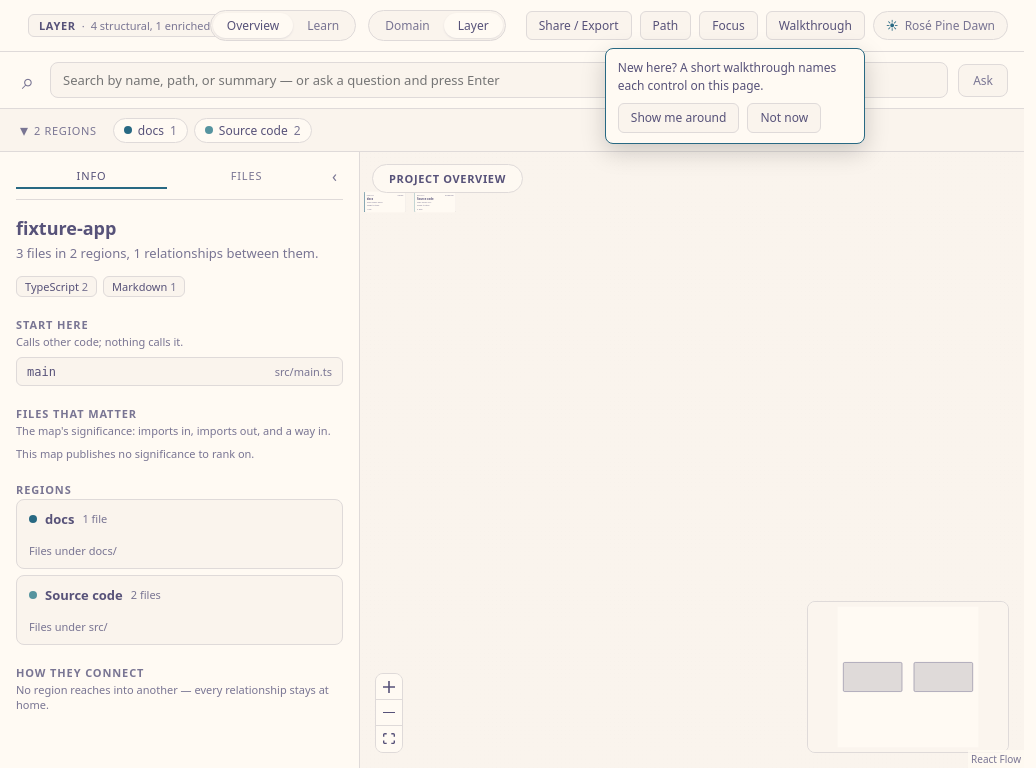
asking the map a question › sends the same-origin JSON POST the question route accepts
The width and height of the screenshot is (1036, 768).
Type "what is this?" into the search field named "Search nodes" at point(499, 80), box [50, 62, 948, 98]
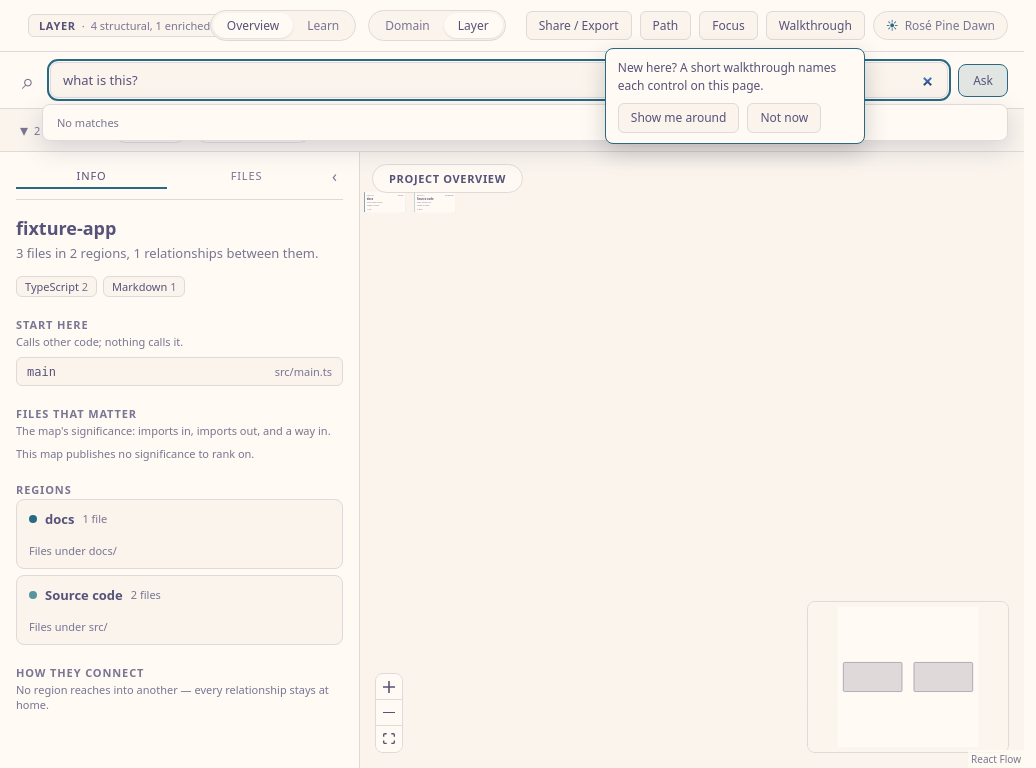
Click the button "Ask" at point(983, 80), box [958, 64, 1008, 96]
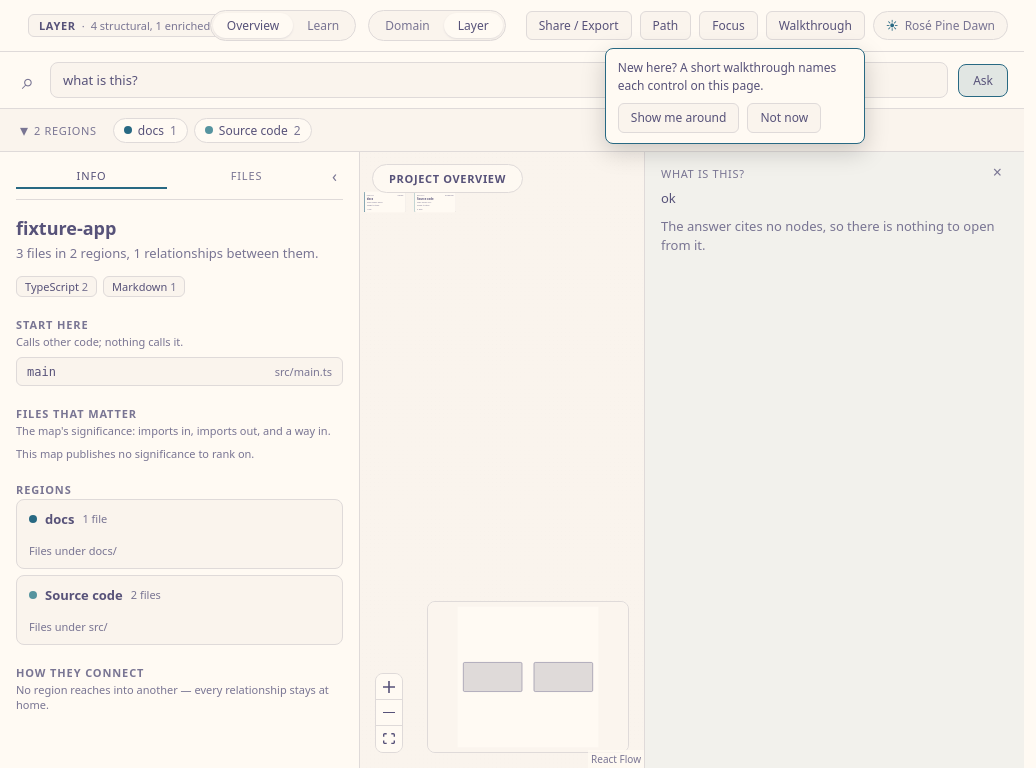
expect the text "ok" is shown: met, box [661, 189, 676, 207]
